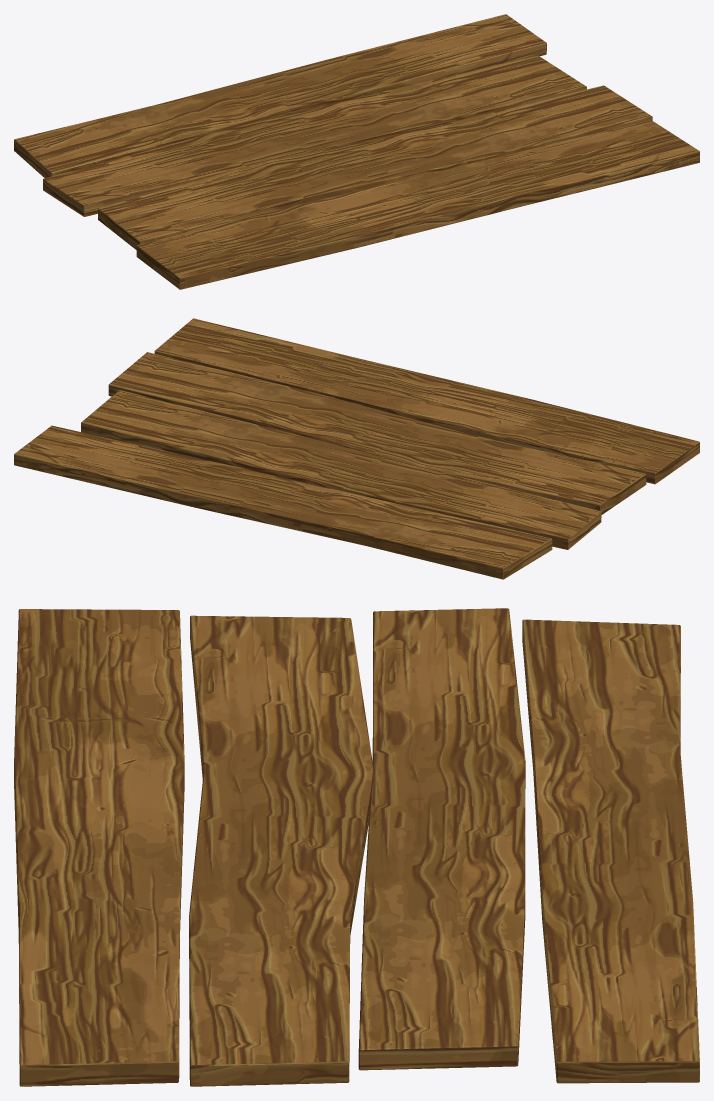
The model's file is Planks.fbx.
The picture shows the model from 3 angles, top to bottom: view 1: azimuth 30°, elevation 25°; view 2: azimuth 150°, elevation 25°; view 3: azimuth 270°, elevation 25°; orthographic projection. The views are drawn at different scales.
Visible parts, largest first — view 1: Plank, Plank2, Plank4, Plank3; view 2: Plank4, Plank, Plank2, Plank3; view 3: Plank, Plank2, Plank3, Plank4.
Part boxes in pixels (x1=…): Plank: x1=136, y1=120, x2=699, y2=289; Plank2: x1=98, y1=85, x2=652, y2=249; Plank4: x1=14, y1=14, x2=546, y2=178; Plank3: x1=43, y1=55, x2=586, y2=216; Plank4: x1=14, y1=425, x2=552, y2=579; Plank: x1=154, y1=318, x2=699, y2=484; Plank2: x1=108, y1=352, x2=646, y2=514; Plank3: x1=81, y1=390, x2=601, y2=549; Plank: x1=14, y1=609, x2=184, y2=1086; Plank2: x1=189, y1=615, x2=372, y2=1086; Plank3: x1=358, y1=608, x2=525, y2=1070; Plank4: x1=522, y1=619, x2=699, y2=1083.
Size of the model in its own units: 2.21 by 0.0485 by 1.4.
Materials: 1 (1 with a texture image).
